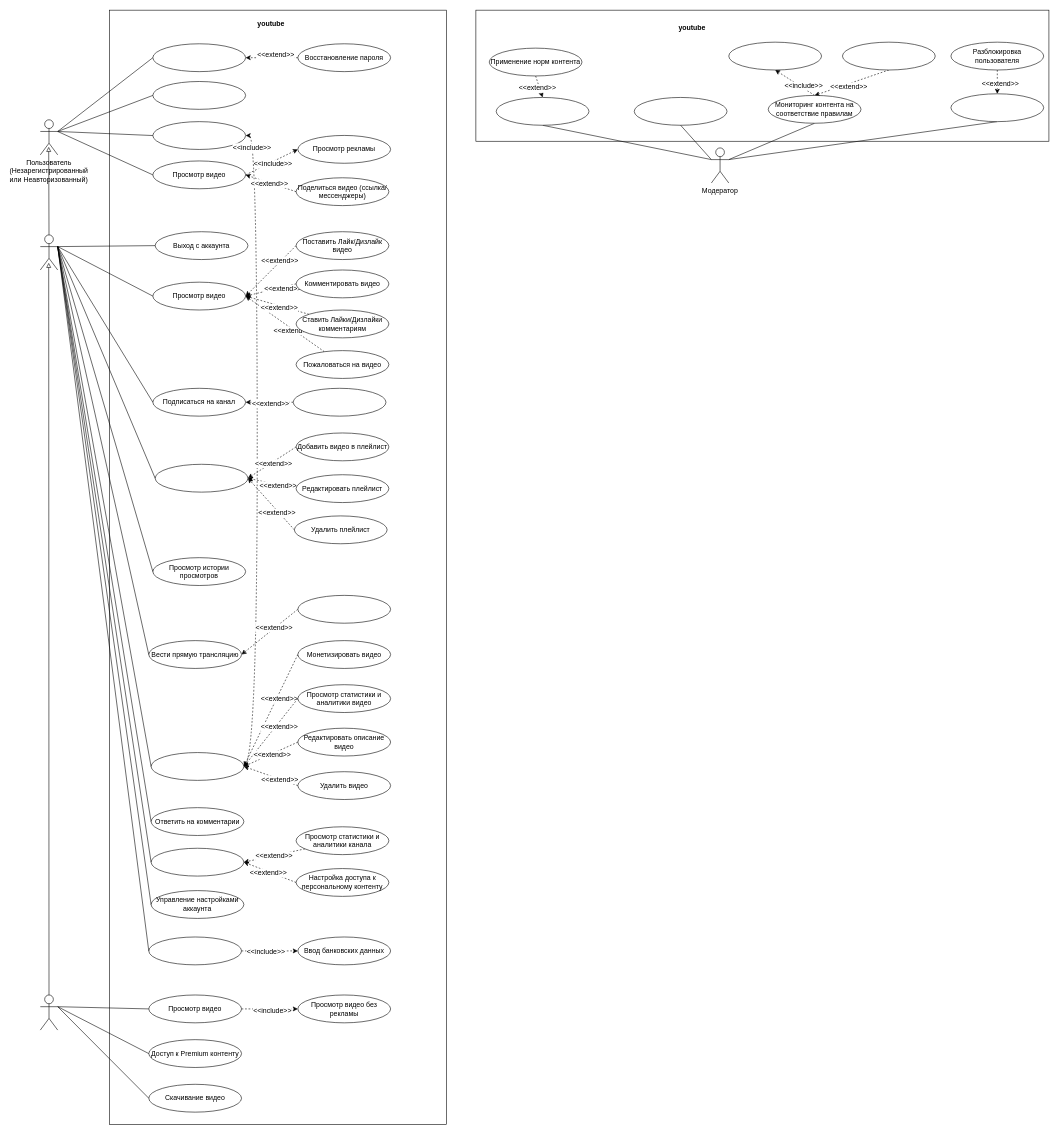
This 1059x1134 diagram has some shape labels left out. Each missing label, with the centre of its shape:
Авторизация: [199,95]
Блокировка пользователя: [997,107]
Взаимодействовать с чатом прямой трансляции: [344,609]
Загрузить видео: [197,766]
Отписаться от канала: [339,402]
Оформить подписку на Premium: [195,950]
Подписчик Premium: [49,1012]
Поиск контента (видео/прямые трансляции/ каналы): [199,135]
Пользователь ( Авторизованный): [49,252]
Просмотр жалоб на контент: [775,56]
Работа с партнерскими программами: [680,111]
Регистрация: [199,57]
Создать плейлист: [201,478]
Удаление видео: [888,56]
Управление настройками видеохостинга: [542,111]
Управление настройками канала: [197,862]
